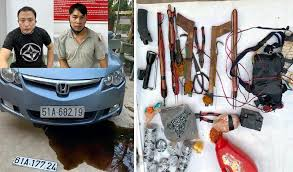Bien-so: (12, 154, 58, 171), (38, 105, 84, 119)
